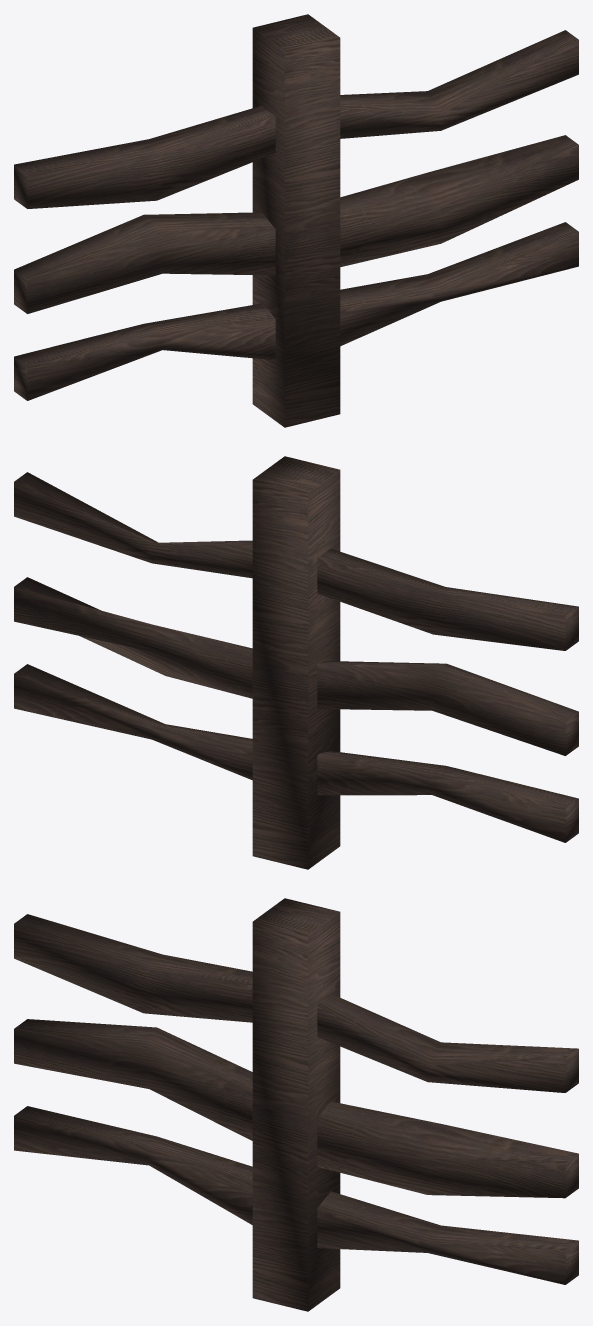
3 views of the same model, one above another, from view 1: azimuth 30°, elevation 25°; view 2: azimuth 150°, elevation 25°; view 3: azimuth 330°, elevation 25° (orthographic).
Parts seen in each view (by area): view 1: Cube170_Wood_02003_0; view 2: Cube170_Wood_02003_0; view 3: Cube170_Wood_02003_0.
Part boxes in pixels (x1,y1,x2,y2): Cube170_Wood_02003_0: (14,14,578,427); Cube170_Wood_02003_0: (14,456,578,869); Cube170_Wood_02003_0: (14,898,578,1311).
Size of the model in its own units: 1.99 by 1.3 by 0.2.
Materials: 1 (1 with a texture image).
